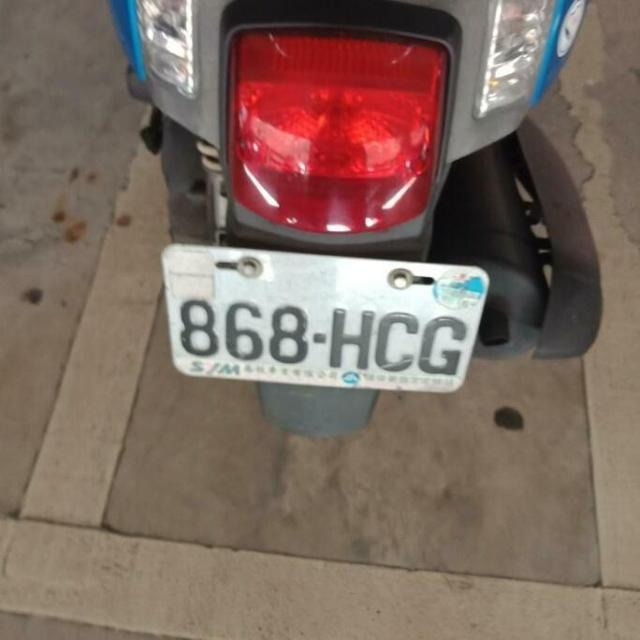W: (151, 230, 496, 406)
